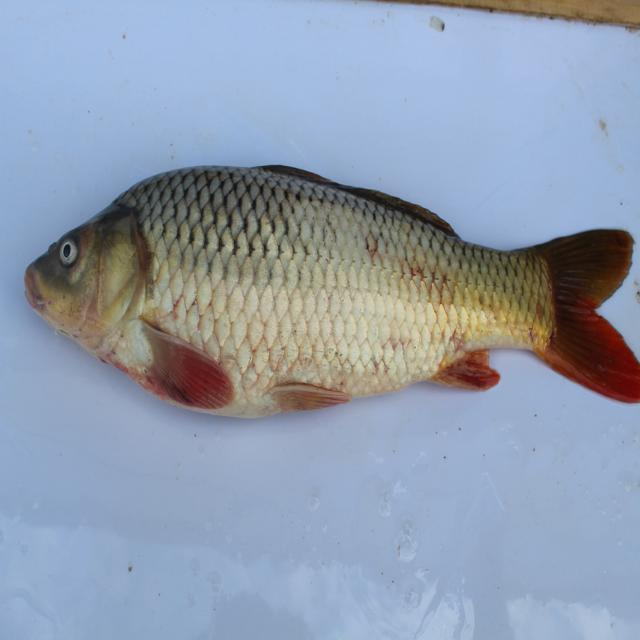CommonCarp: (22, 162, 640, 406)
